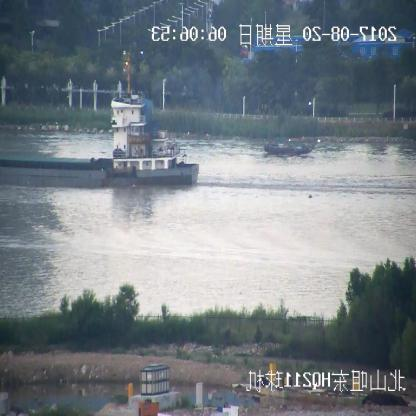Fishing Boat: (263, 142, 312, 155)
